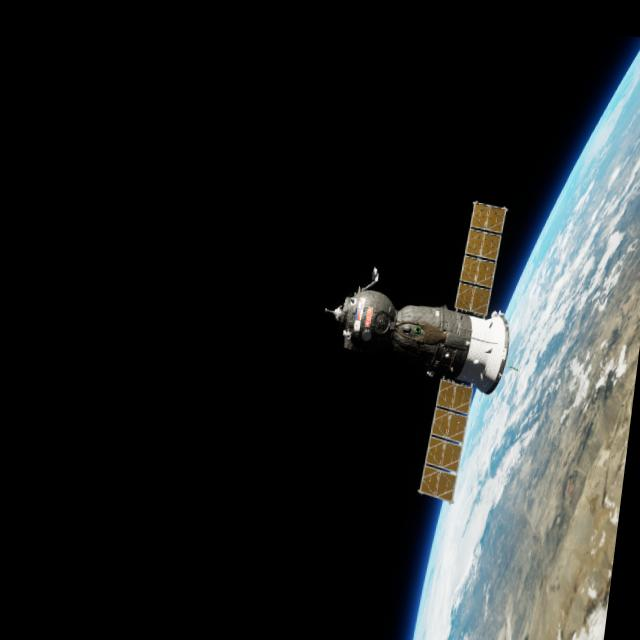Satellites revolving around earth: (407, 19, 640, 640), (300, 182, 532, 512)
